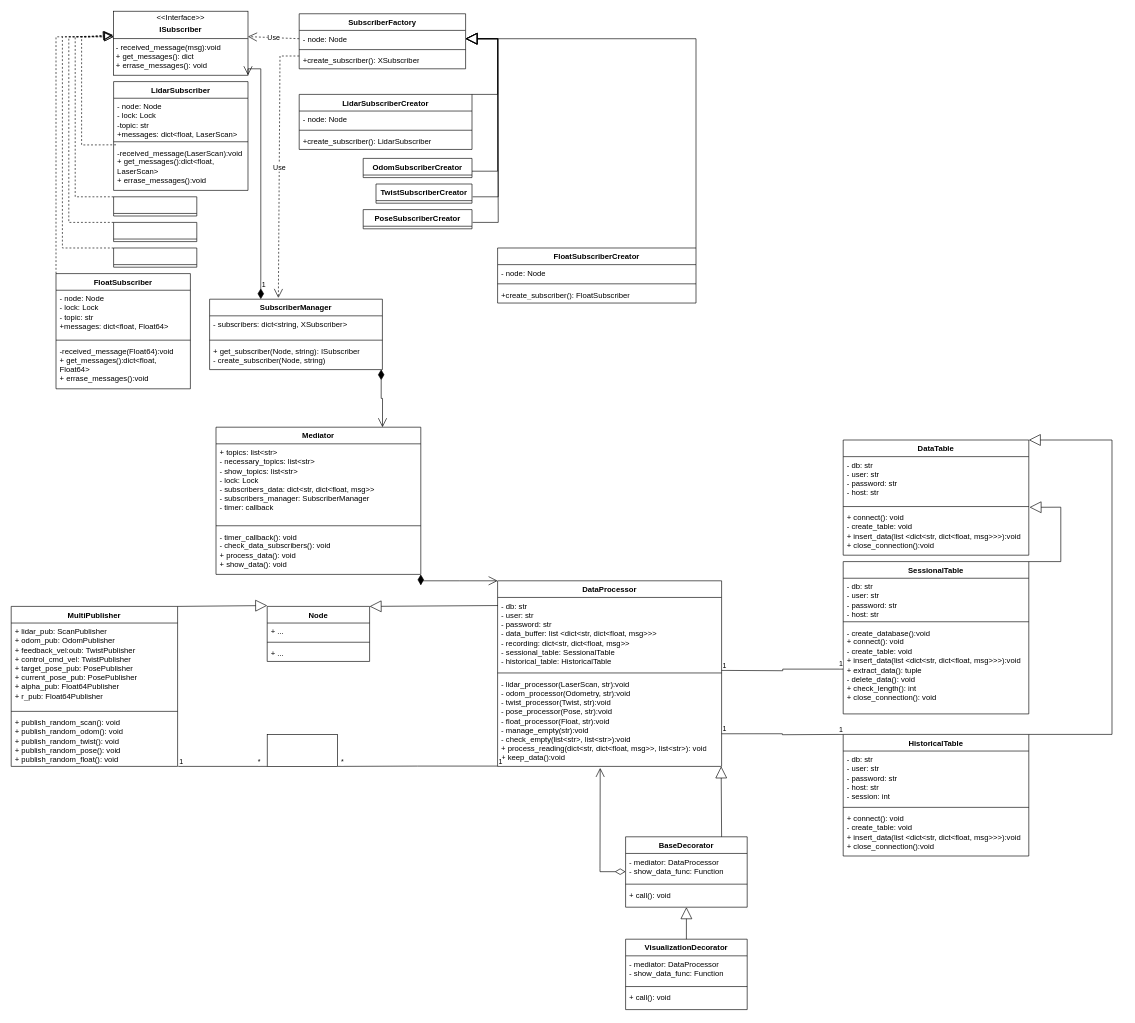
The diagram is 1135 pixels wide and 1023 high, and some of its shapes have lost their labels. The shapes that lost their labels are listed below. From the top down, each one's centre as x and y in pixels, then its label:
[155,206]: OdomSubscriber
[155,232]: TwistSubscriber
[155,257]: PoseSubscriber
[302,750]: /topic
